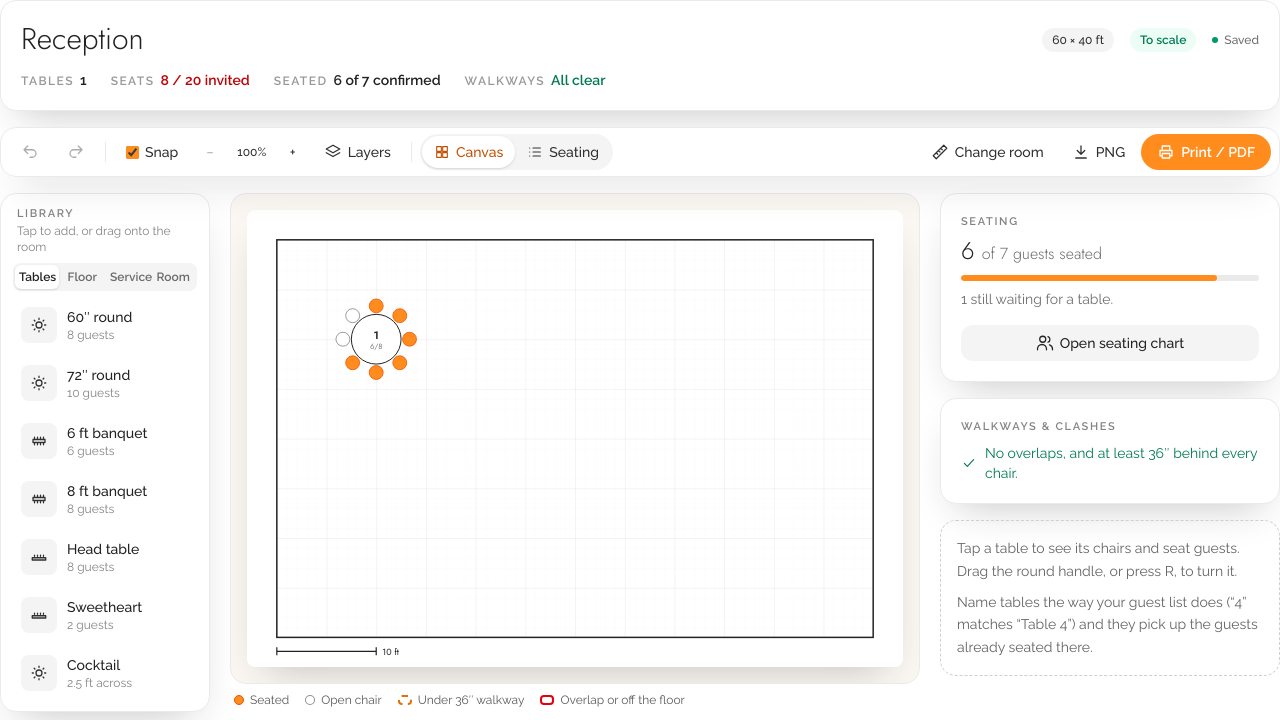
Test case: LayoutEditor › shows a save failure with a retry
What coordinates should you click on to do the following:
click the tab "Service"
I would click on:
 (128, 276)
Its box is [106,264,150,288].
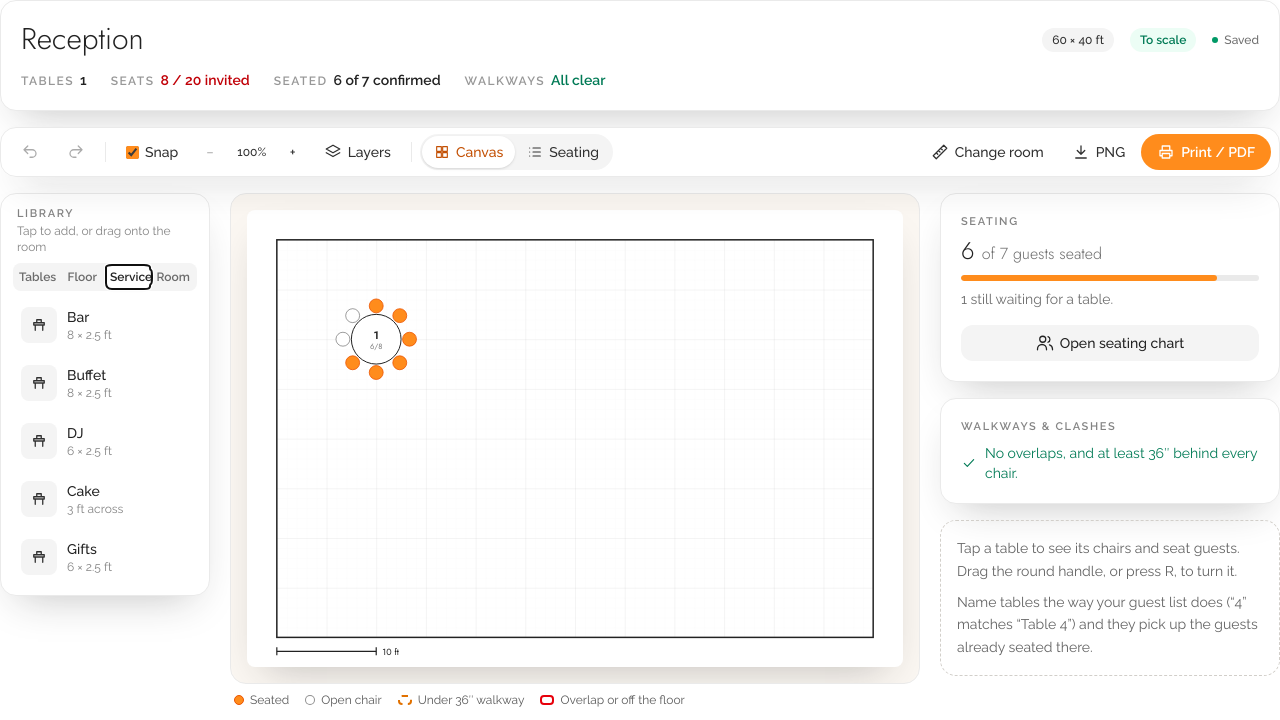
What coordinates should you click on to do the following:
click the button "Bar 8 × 2.5 ft"
I would click on:
 (105, 324)
Its box is [13,298,197,350].
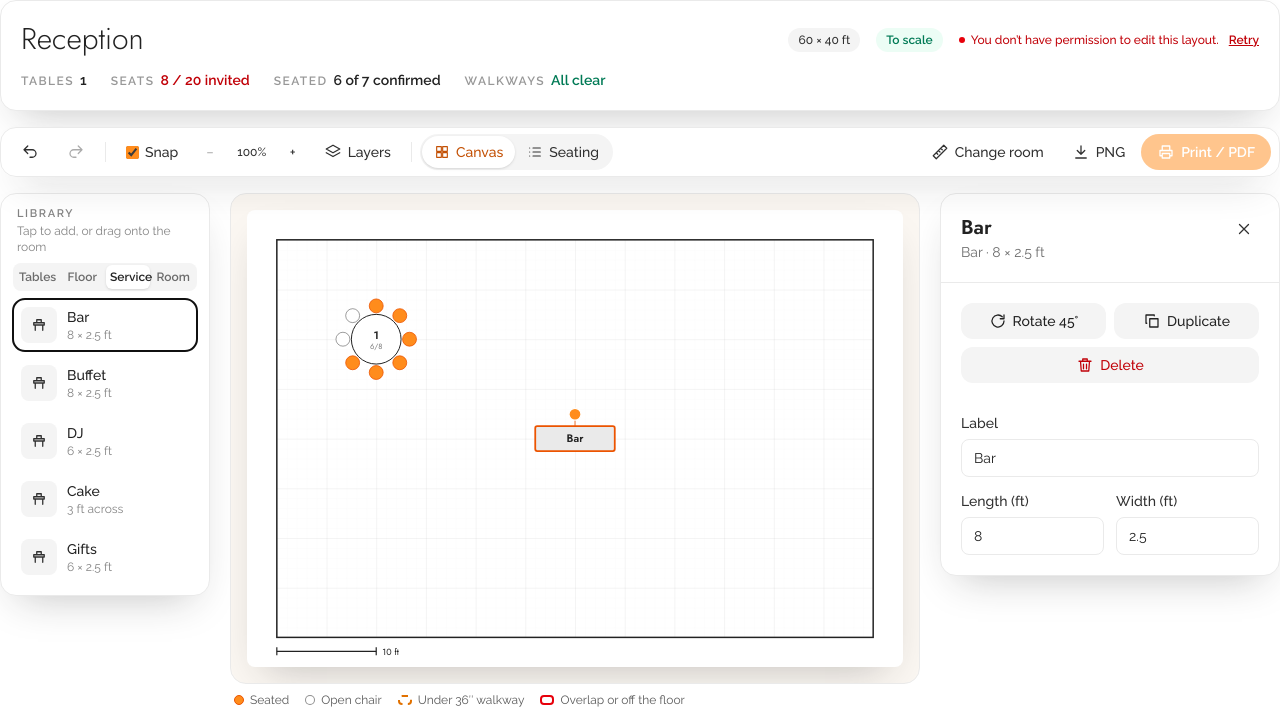
Expected: the text "You don’t have permission to edit this layout. Retry" is shown, [959,32,1259,48]
Expected: the button "Retry" is shown, [1229,32,1259,48]
